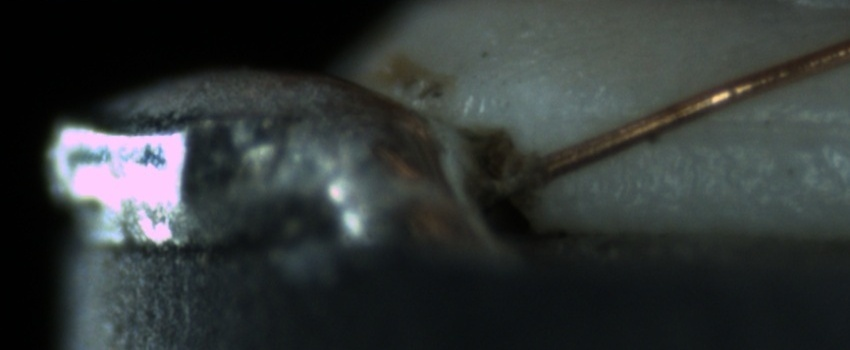DL: (614, 90, 847, 156)
